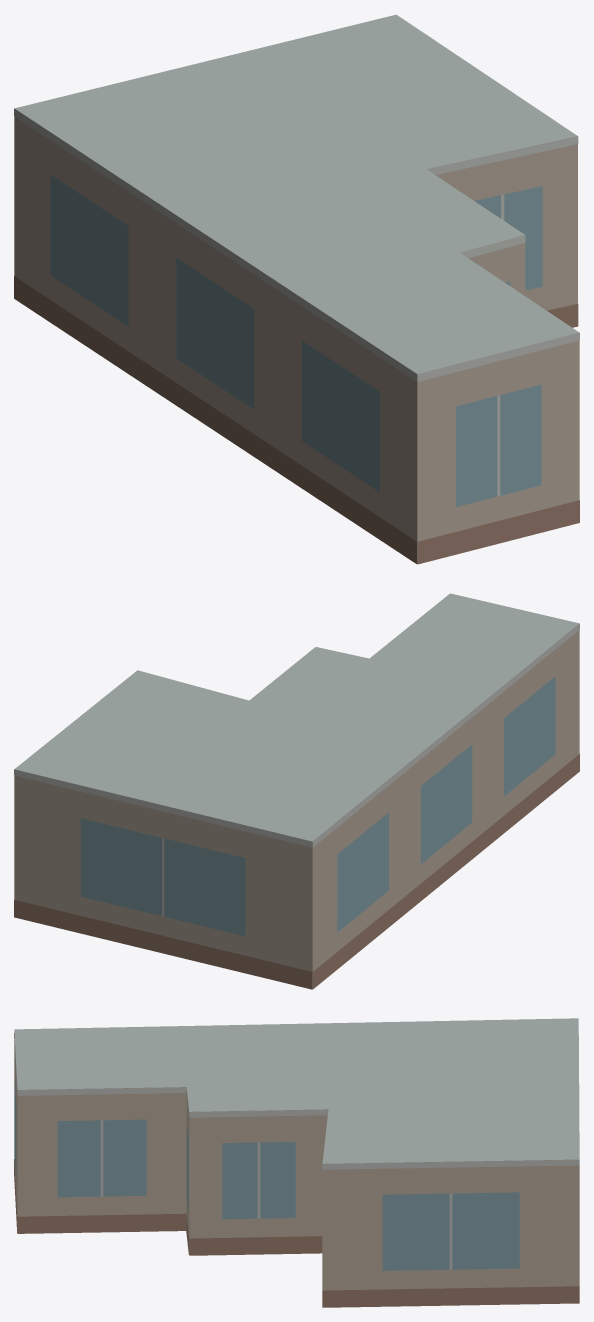
The model's file is survey-upis-32762638.glb.
The picture shows the model from 3 angles, top to bottom: view 1: azimuth 30°, elevation 25°; view 2: azimuth 150°, elevation 25°; view 3: azimuth 270°, elevation 25°; orthographic projection. The views are drawn at different scales.
Parts seen in each view (by area): view 1: survey-upis-32762638.tmp; view 2: survey-upis-32762638.tmp; view 3: survey-upis-32762638.tmp.
Boxes of the visible parts, x1,y1,x2,y2 form: survey-upis-32762638.tmp: (14,14,579,564); survey-upis-32762638.tmp: (14,593,579,989); survey-upis-32762638.tmp: (14,1018,579,1307).
Bounding box in the file's own units: 6.63 × 3.05 × 10.88.
